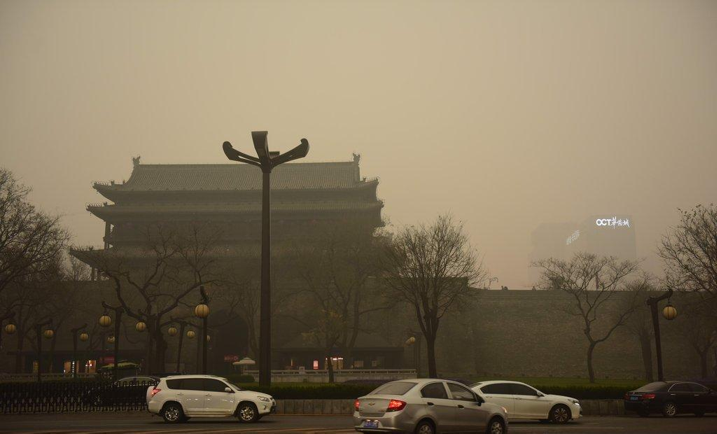car: (353, 377, 510, 434), (444, 379, 585, 424), (146, 374, 277, 422), (624, 379, 717, 420), (86, 375, 184, 408)
